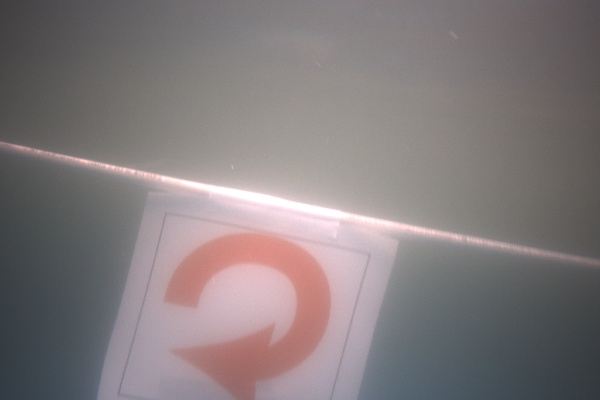gate: (0, 104, 600, 400)
gate_bleue: (58, 120, 255, 397)
